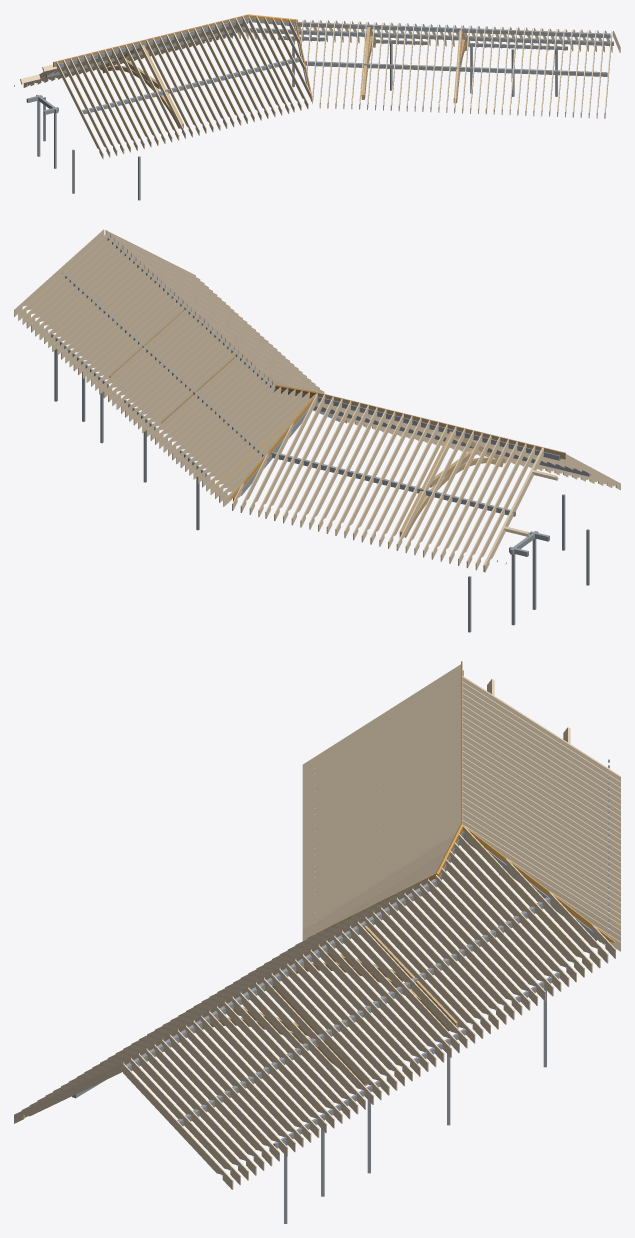
Rendered from stage-4.glb.
The picture shows the model from 3 angles, top to bottom: view 1: azimuth 30°, elevation 25°; view 2: azimuth 150°, elevation 25°; view 3: azimuth 270°, elevation 25°; orthographic projection. The views are drawn at different scales.
Parts seen in each view (by area): view 1: Geom3D_R97 common 47 x 245 C24 L5704, Geom3D_UB 203x133 - Ridge-01/02 (north block), Geom3D_JH08 jack hip 47 x 245 C24 L4810, Geom3D_, Geom3D_CP05 cripple 47 x 245 C24 L1519, Geom3D_RB04 ridge board 47 x 295 C16 L11321; view 2: Geom3D_JH08 jack hip 47 x 245 C24 L4810, Geom3D_R97 common 47 x 245 C24 L5704, Geom3D_UB 203x133 - Ridge-01/02 (north block), Geom3D_, Geom3D_RB04 ridge board 47 x 295 C16 L11321, Geom3D_CR48 crown 47 x 245 C24 L5704, Geom3D_H02 hip 100 x 320 GL24h L2490; view 3: Geom3D_JH08 jack hip 47 x 245 C24 L4810, Geom3D_R97 common 47 x 245 C24 L5704, Geom3D_UB 203x133 - Ridge-01/02 (north block), Geom3D_, Geom3D_CP05 cripple 47 x 245 C24 L1519, Geom3D_CR48 crown 47 x 245 C24 L5704, Geom3D_H02 hip 100 x 320 GL24h L2490.
Boxes of the visible parts, left/top/right/bottom form: Geom3D_R97 common 47 x 245 C24 L5704: left=20, top=15, right=294, bottom=159; Geom3D_UB 203x133 - Ridge-01/02 (north block): left=26, top=18, right=613, bottom=200; Geom3D_JH08 jack hip 47 x 245 C24 L4810: left=209, top=16, right=620, bottom=118; Geom3D_: left=100, top=27, right=467, bottom=128; Geom3D_CP05 cripple 47 x 245 C24 L1519: left=272, top=18, right=319, bottom=103; Geom3D_RB04 ridge board 47 x 295 C16 L11321: left=53, top=14, right=248, bottom=67; Geom3D_JH08 jack hip 47 x 245 C24 L4810: left=14, top=229, right=366, bottom=514; Geom3D_R97 common 47 x 245 C24 L5704: left=258, top=394, right=620, bottom=572; Geom3D_UB 203x133 - Ridge-01/02 (north block): left=51, top=234, right=590, bottom=632; Geom3D_: left=109, top=309, right=505, bottom=538; Geom3D_RB04 ridge board 47 x 295 C16 L11321: left=317, top=392, right=565, bottom=459; Geom3D_CR48 crown 47 x 245 C24 L5704: left=210, top=394, right=315, bottom=494; Geom3D_H02 hip 100 x 320 GL24h L2490: left=229, top=385, right=317, bottom=501; Geom3D_JH08 jack hip 47 x 245 C24 L4810: left=14, top=833, right=620, bottom=1189; Geom3D_R97 common 47 x 245 C24 L5704: left=302, top=664, right=620, bottom=929; Geom3D_UB 203x133 - Ridge-01/02 (north block): left=72, top=670, right=596, bottom=1223; Geom3D_: left=202, top=925, right=458, bottom=1085; Geom3D_CP05 cripple 47 x 245 C24 L1519: left=307, top=850, right=446, bottom=938; Geom3D_CR48 crown 47 x 245 C24 L5704: left=463, top=826, right=592, bottom=972; Geom3D_H02 hip 100 x 320 GL24h L2490: left=435, top=824, right=615, bottom=945.
Size of the model in its own units: 29.2 by 6.56 by 17.82.
